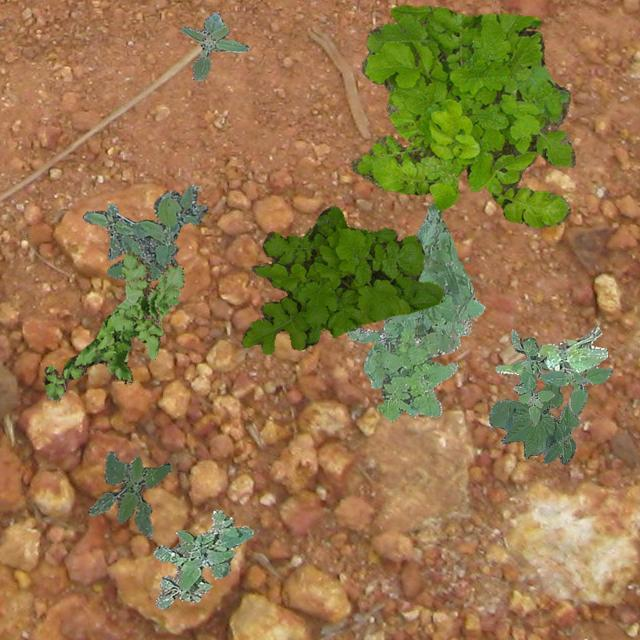crop: (488, 382, 578, 463)
weed: (352, 5, 574, 226), (346, 202, 484, 422), (240, 205, 442, 354), (44, 250, 184, 400), (81, 184, 208, 278), (152, 508, 252, 608), (509, 328, 612, 424), (88, 450, 170, 538), (494, 326, 606, 374), (180, 11, 248, 80)
